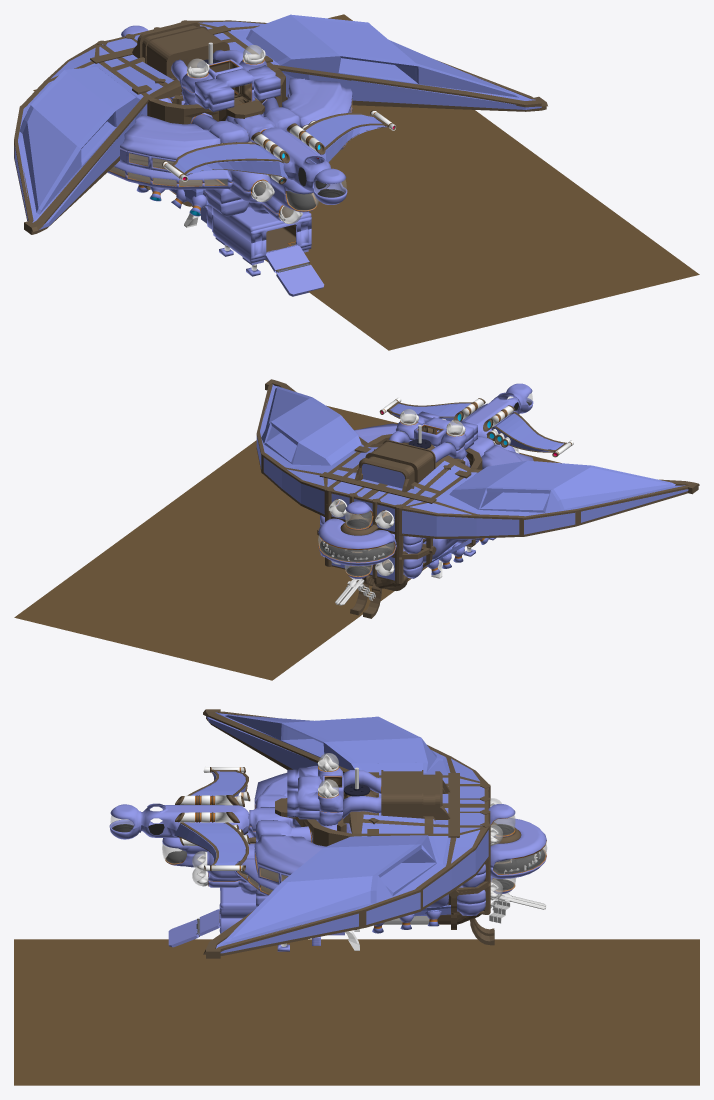
Rendered from testscape.glb.
3 renders of one model, top to bottom at view 1: azimuth 30°, elevation 25°; view 2: azimuth 150°, elevation 25°; view 3: azimuth 270°, elevation 25°, orthographic. The views are drawn at different scales.
Visible parts, largest first — view 1: stair egress.001, ground, shuttle wings, back room roof.002, lower stellorator doors, shuttle rear engines, escape pod instances, thruster.005; view 2: ground, stair egress.001, shuttle wings, escape pod instances, shuttle rear engines, lower stellorator doors, back room roof.002, landing feet; view 3: ground, stair egress.001, shuttle wings, lower stellorator doors, shuttle rear engines, escape pod instances, back room roof.002.
Boxes of the visible parts, <box> form: stair egress.001: <box>14,14,547,296</box>; ground: <box>33,14,699,350</box>; shuttle wings: <box>171,113,388,177</box>; back room roof.002: <box>254,127,330,181</box>; lower stellorator doors: <box>146,28,221,74</box>; shuttle rear engines: <box>162,110,395,184</box>; escape pod instances: <box>186,45,302,223</box>; thruster.005: <box>136,184,206,216</box>; ground: <box>14,405,561,680</box>; stair egress.001: <box>256,379,699,590</box>; shuttle wings: <box>387,401,566,452</box>; escape pod instances: <box>328,409,519,575</box>; shuttle rear engines: <box>379,397,573,457</box>; lower stellorator doors: <box>371,441,433,578</box>; back room roof.002: <box>462,392,520,437</box>; landing feet: <box>350,585,381,618</box>; ground: <box>14,939,699,1085</box>; stair egress.001: <box>162,709,546,958</box>; shuttle wings: <box>174,769,248,865</box>; lower stellorator doors: <box>383,771,429,924</box>; shuttle rear engines: <box>175,767,250,871</box>; escape pod instances: <box>192,753,502,900</box>; back room roof.002: <box>141,803,248,830</box>.
Bounding box in the file's own units: 54.82 × 16.59 × 59.39.
